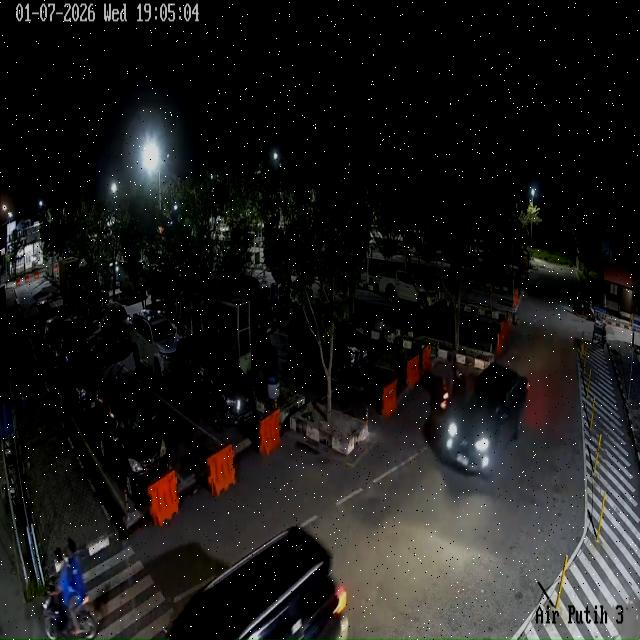Golongan IVA: (169, 527, 348, 640), (442, 363, 530, 476), (95, 376, 170, 500), (172, 336, 256, 434), (288, 305, 369, 379), (59, 336, 103, 418), (130, 310, 178, 384), (43, 316, 69, 370), (101, 301, 131, 344), (36, 300, 52, 339)
Golongan IVB: (378, 270, 439, 312)
Golongan VB: (58, 257, 105, 323)
